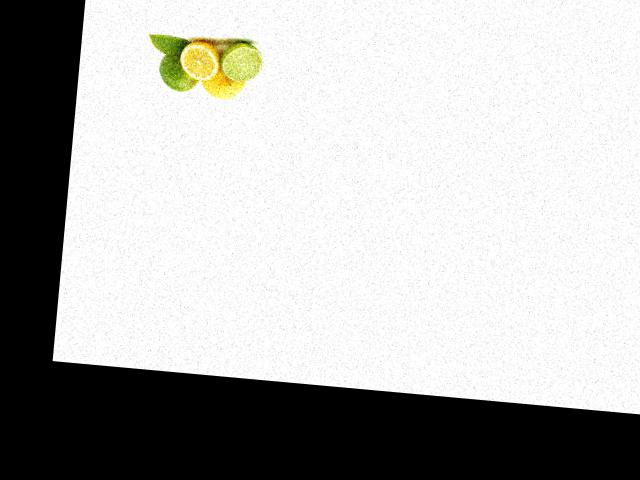lemon: (200, 65, 247, 103)
